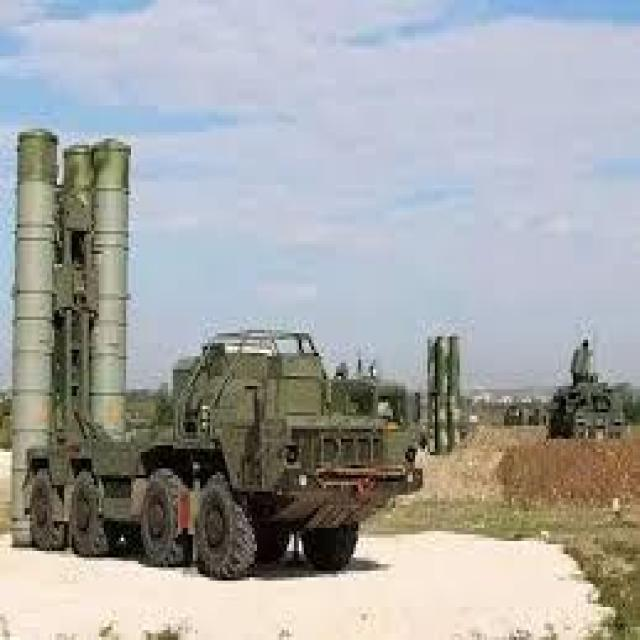Tanks: (12, 114, 428, 562), (429, 322, 626, 457)
